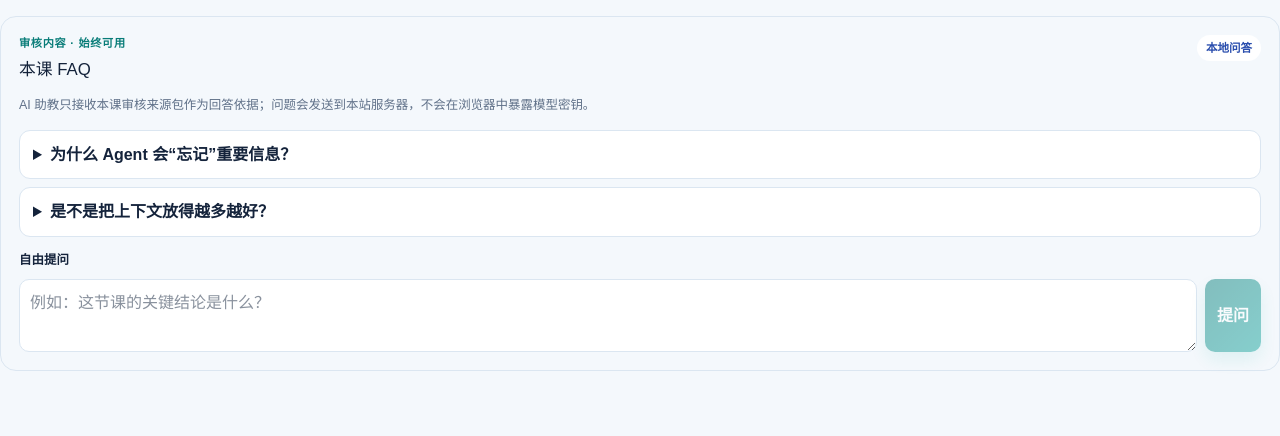
Test: FaqPanel › shows a recoverable server configuration error
In the text box labelled "自由提问": (608, 316) [19,279,1197,352], type "今天上海天气怎么样？"
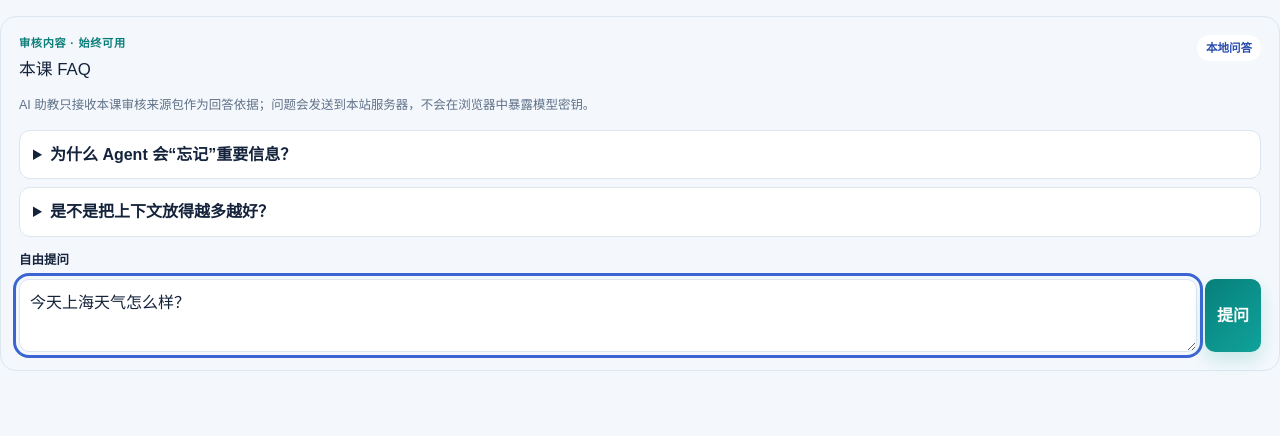
Click the button "提问": (1233, 316) [1205,279,1261,352]
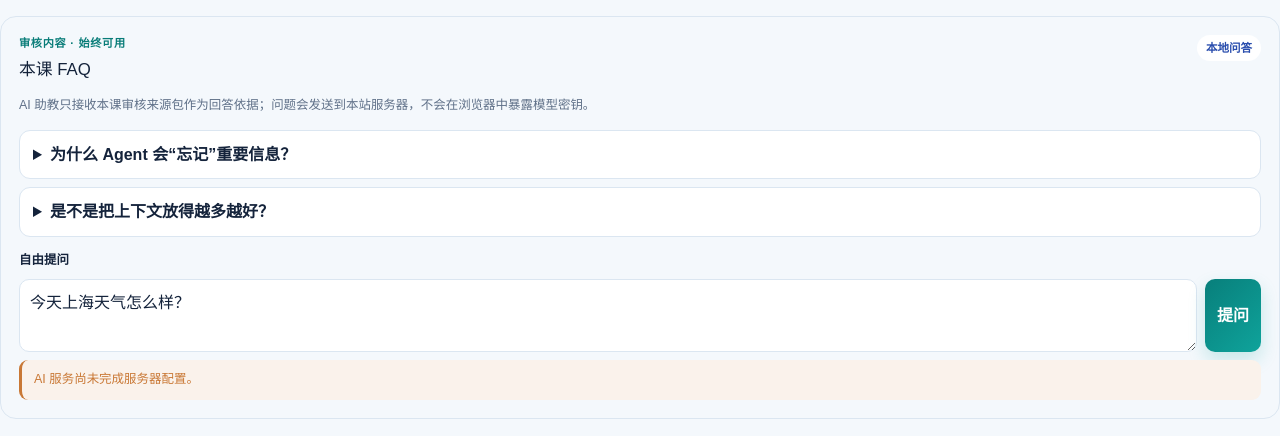
Result: the message reads "AI 服务尚未完成服务器配置。" at [34,372,199,386]
